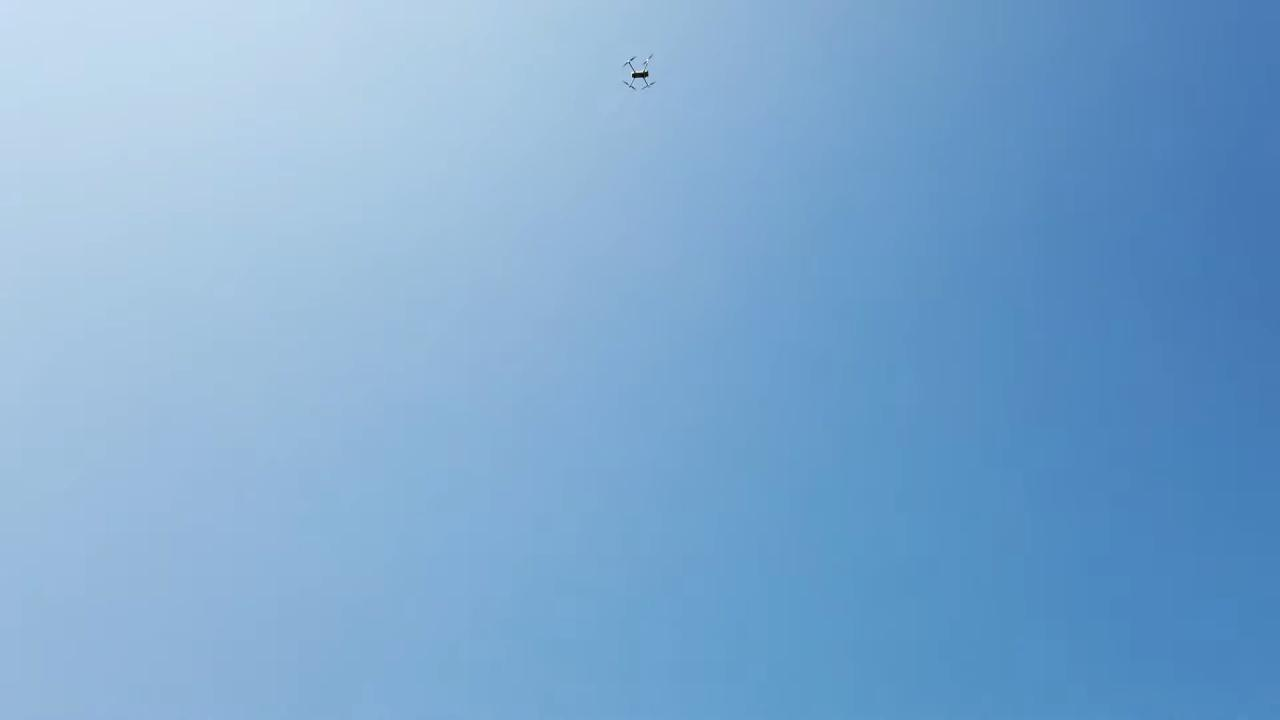Drone: (612, 48, 664, 96)
